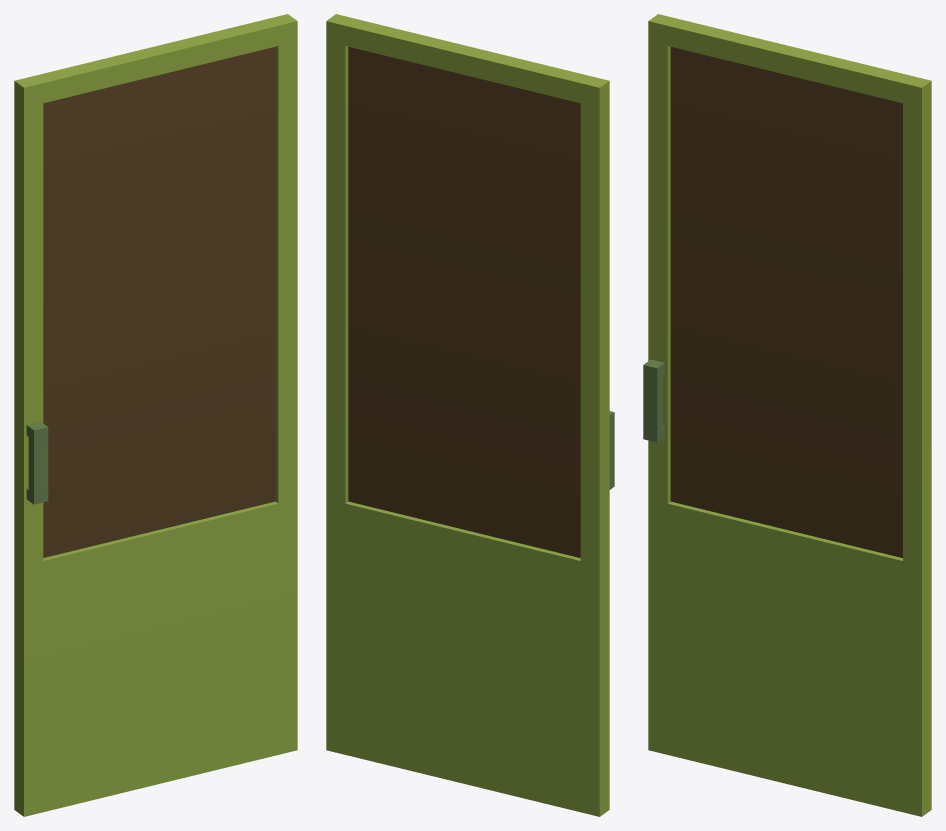
Rendered from Coffe_03_Door02.fbx.
3 renders of one model, left to right at view 1: azimuth 30°, elevation 25°; view 2: azimuth 150°, elevation 25°; view 3: azimuth 330°, elevation 25°, orthographic.
Visible parts, largest first — view 1: Coffe_03_Door02; view 2: Coffe_03_Door02; view 3: Coffe_03_Door02.
Boxes of the visible parts, box(x1,y1,x2,y2) form: Coffe_03_Door02: box(14, 14, 297, 816); Coffe_03_Door02: box(326, 14, 614, 816); Coffe_03_Door02: box(643, 14, 931, 816).
Bounding box in the file's own units: 0.8096 × 2.06 × 0.0891.
